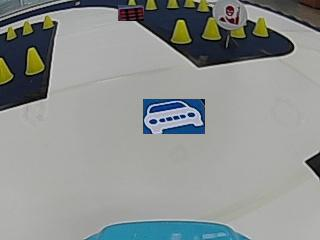evil: (213, 0, 247, 30)
